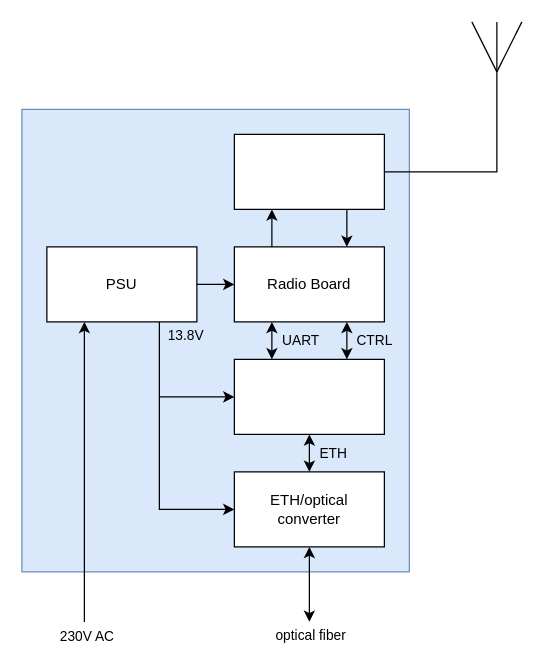
The diagram is 545 pixels wide and 666 high, and some of its shapes have lost their labels. Here are the shapes that lost their labels. From the top down, the centre of each, then its label:
At pixel 308 171: "Duplexer".
At pixel 308 396: "Interface".
